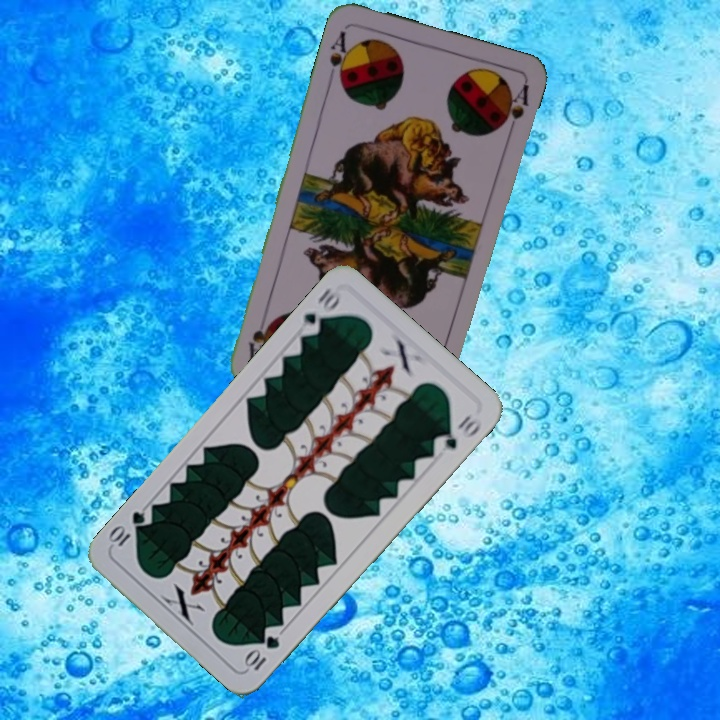G10: (295, 283, 345, 339), (241, 631, 283, 674)
SA: (324, 27, 355, 86)
